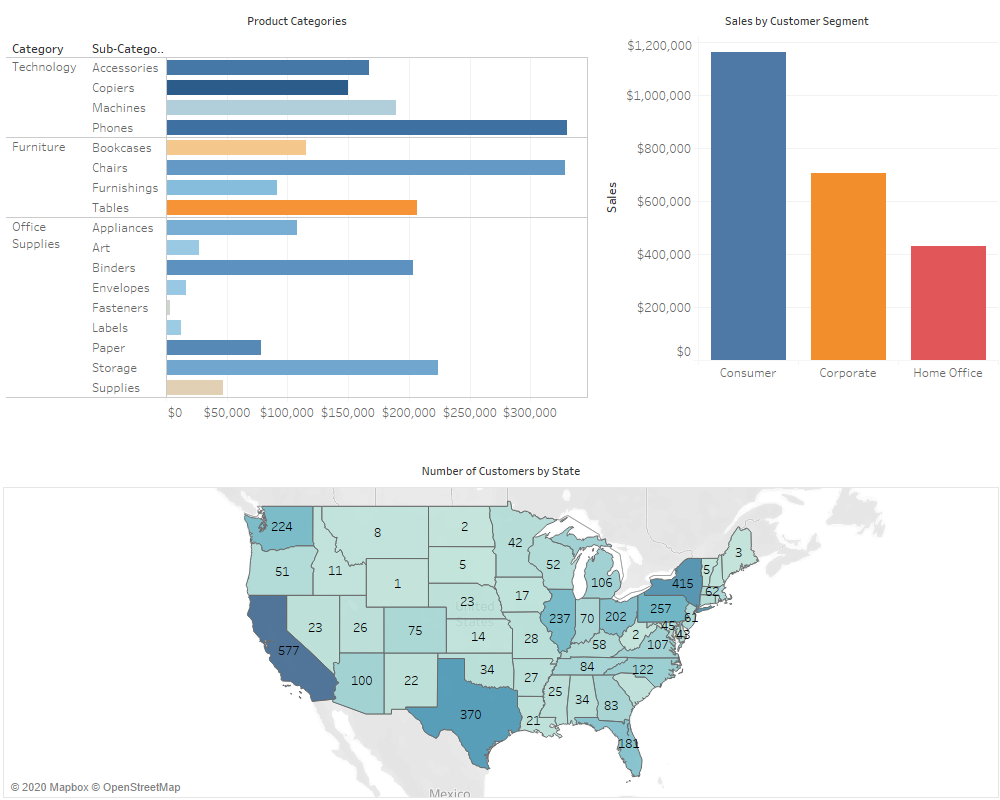

This screenshot's page, from the dashboard's own definition file:
{"tool":"tableau","page":{"name":"Superstore Market","canvas":[1000,800],"ordinal":1},"visuals":[{"type":"worksheet","title":"Categories","mark":"Automatic","rows":["Category","Sub-Category"],"cols":["Sales"],"box":[6,7,582,450]},{"type":"worksheet","title":"Customer Segment","mark":"Automatic","rows":["Sales"],"cols":["Segment"],"box":[596,7,402,393]},{"type":"worksheet","title":"Customer by State","mark":"Automatic","box":[3,457,996,341]}]}

Visuals, with their boxes in screenshot pixels (x1, y1, x2, y2), scaled from the page's 1000x800 canvas onto the 1000x800 screenshot:
"Categories" worksheet: (6, 7, 588, 457)
"Customer Segment" worksheet: (596, 7, 998, 400)
"Customer by State" worksheet: (3, 457, 999, 798)
